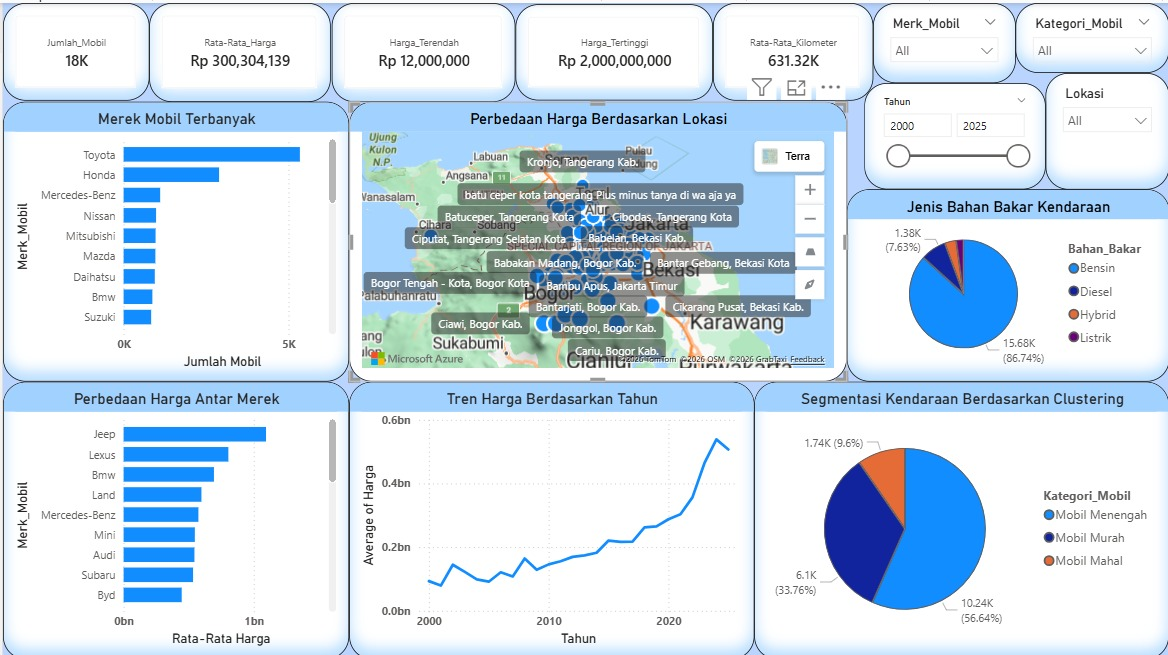

Layout of this report page (visuals, bound fields, positions):
{"tool":"powerbi","page":{"name":"Page 1","canvas":[1280,720],"ordinal":0},"visuals":[{"type":"cardVisual","fields":{"Data":["Fact_Kendaraan.Jumlah_Mobil"]},"box":[0,0,160.5,107],"z":0},{"type":"cardVisual","fields":{"Data":["Fact_Kendaraan.Rata-Rata_Harga"]},"box":[160.5,0,199,108.4],"z":1000},{"type":"cardVisual","fields":{"Data":["Fact_Kendaraan.Harga_Terendah"]},"box":[360.9,0,201.7,108.4],"z":2000},{"type":"cardVisual","fields":{"Data":["Fact_Kendaraan.Harga_Tertinggi"]},"box":[562.6,1.4,216.8,105.7],"z":3000},{"type":"cardVisual","fields":{"Data":["Fact_Kendaraan.Rata-Rata_Kilometer"]},"box":[779.4,0,175.6,107],"z":4000},{"type":"barChart","title":"Merek Mobil Terbanyak","fields":{"Category":["Dim_Kendaraan.Merk_Mobil"],"Y":["CountNonNull(Fact_Kendaraan.Id_Kendaraan_Dim)"]},"box":[0,108.4,380.1,307.4],"z":5000},{"type":"lineChart","title":"Tren Harga Berdasarkan Tahun","fields":{"Category":["Dim_Waktu.Tahun"],"Y":["Avg(Fact_Kendaraan.Harga)"]},"box":[380.1,415.8,444.6,304.6],"z":6000},{"type":"barChart","title":"Perbedaan Harga Antar Merek","fields":{"Category":["Dim_Kendaraan.Merk_Mobil"],"Y":["Avg(Fact_Kendaraan.Harga)"]},"box":[0,415.8,380.1,304.6],"z":7000},{"type":"pieChart","title":"Jenis Bahan Bakar Kendaraan","fields":{"Category":["Dim_Kendaraan.Bahan_Bakar"],"Y":["CountNonNull(Fact_Kendaraan.Id_Kendaraan_Dim)"]},"box":[926.2,204.5,354,211.3],"z":8000},{"type":"pieChart","title":"Segmentasi Kendaraan Berdasarkan Clustering","fields":{"Category":["Fact_Kendaraan.Kategori_Mobil"],"Y":["CountNonNull(Fact_Kendaraan.Id_Kendaraan_Dim)"]},"box":[824.7,415.8,455.6,304.6],"z":9000},{"type":"slicer","fields":{"Values":["Dim_Kendaraan.Merk_Mobil"]},"box":[955.1,0,156.4,87.8],"z":10000},{"type":"slicer","fields":{"Values":["Dim_Lokasi.Lokasi"]},"box":[1144.4,76.8,135.8,127.6],"z":11000},{"type":"slicer","fields":{"Values":["Fact_Kendaraan.Kategori_Mobil"]},"box":[1111.5,0,168.8,76.8],"z":12000},{"type":"slicer","fields":{"Values":["Dim_Waktu.Tahun"]},"box":[945.5,87.8,199,116.6],"z":13000},{"type":"azureMap","title":"Perbedaan Harga Berdasarkan Lokasi","fields":{"Category":["Dim_Lokasi.Lokasi"]},"box":[380.1,108.4,546.1,307.4],"z":14000}]}

Visuals, with their boxes in screenshot pixels (x1, y1, x2, y2), scaled from the page's 1280x720 canvas onto the 1168x655 screenshot:
cardVisual - Fact_Kendaraan.Jumlah_Mobil: x1=0, y1=0, x2=146, y2=97
cardVisual - Fact_Kendaraan.Rata-Rata_Harga: x1=146, y1=0, x2=328, y2=99
cardVisual - Fact_Kendaraan.Harga_Terendah: x1=329, y1=0, x2=513, y2=99
cardVisual - Fact_Kendaraan.Harga_Tertinggi: x1=513, y1=1, x2=711, y2=97
cardVisual - Fact_Kendaraan.Rata-Rata_Kilometer: x1=711, y1=0, x2=871, y2=97
"Merek Mobil Terbanyak" barChart: x1=0, y1=99, x2=347, y2=378
"Tren Harga Berdasarkan Tahun" lineChart: x1=347, y1=378, x2=753, y2=654
"Perbedaan Harga Antar Merek" barChart: x1=0, y1=378, x2=347, y2=654
"Jenis Bahan Bakar Kendaraan" pieChart: x1=845, y1=186, x2=1167, y2=378
"Segmentasi Kendaraan Berdasarkan Clustering" pieChart: x1=753, y1=378, x2=1167, y2=654
slicer - Dim_Kendaraan.Merk_Mobil: x1=872, y1=0, x2=1014, y2=80
slicer - Dim_Lokasi.Lokasi: x1=1044, y1=70, x2=1167, y2=186
slicer - Fact_Kendaraan.Kategori_Mobil: x1=1014, y1=0, x2=1167, y2=70
slicer - Dim_Waktu.Tahun: x1=863, y1=80, x2=1044, y2=186
"Perbedaan Harga Berdasarkan Lokasi" azureMap: x1=347, y1=99, x2=845, y2=378
